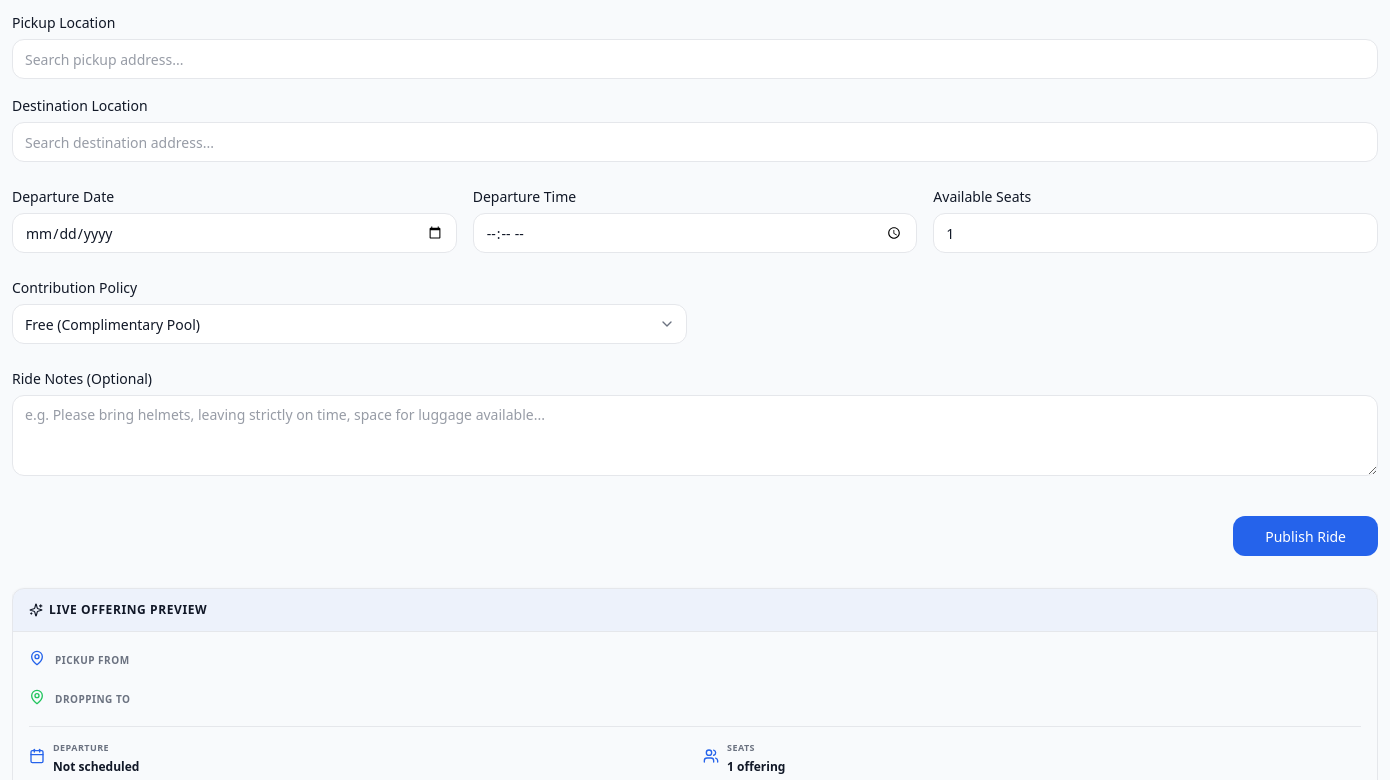
Test: RideForm & Validations (Client Schema) › validates coordinate selections and details constraints on submit
Click the button "Publish Ride" at {"x": 1306, "y": 536}, box [1233,516,1378,556]
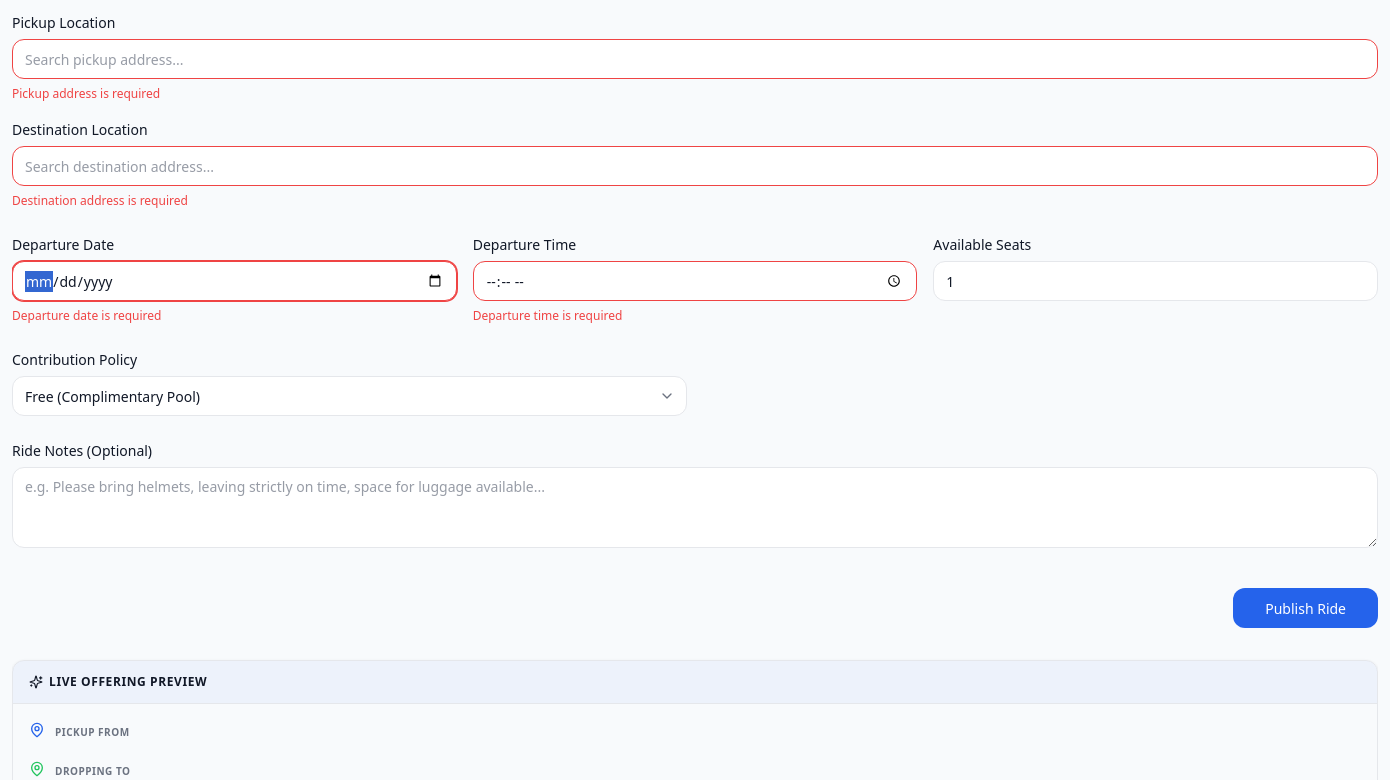
Now the text "Pickup address is required" is shown, box [12,85,160,102]
Now the text "Destination address is required" is shown, box [12,192,188,209]
Now the text "Departure date is required" is shown, box [12,307,162,324]
